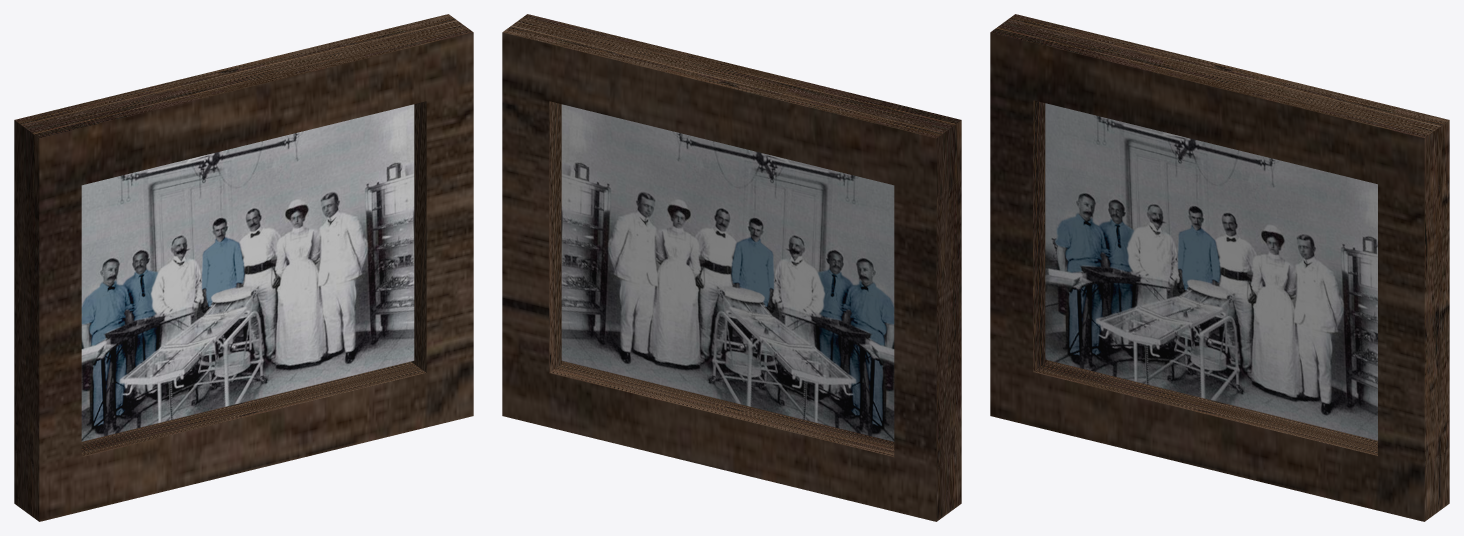
Rendered from foto.fbx.
3 views of the same model, side by side, from view 1: azimuth 30°, elevation 25°; view 2: azimuth 150°, elevation 25°; view 3: azimuth 330°, elevation 25° (orthographic).
Visible parts, largest first — view 1: pCube4, pPlane1; view 2: pCube4, pPlane1; view 3: pCube4, pPlane1.
Part boxes in pixels (box(x1,y1,x2,y2)): pCube4: box(14, 14, 473, 521); pPlane1: box(81, 104, 414, 441); pCube4: box(502, 14, 961, 521); pPlane1: box(561, 104, 894, 441); pCube4: box(990, 14, 1449, 521); pPlane1: box(1045, 103, 1377, 440).
Size of the model in its own units: 2.24 by 1.89 by 0.2251.
2 materials, 2 textured.
